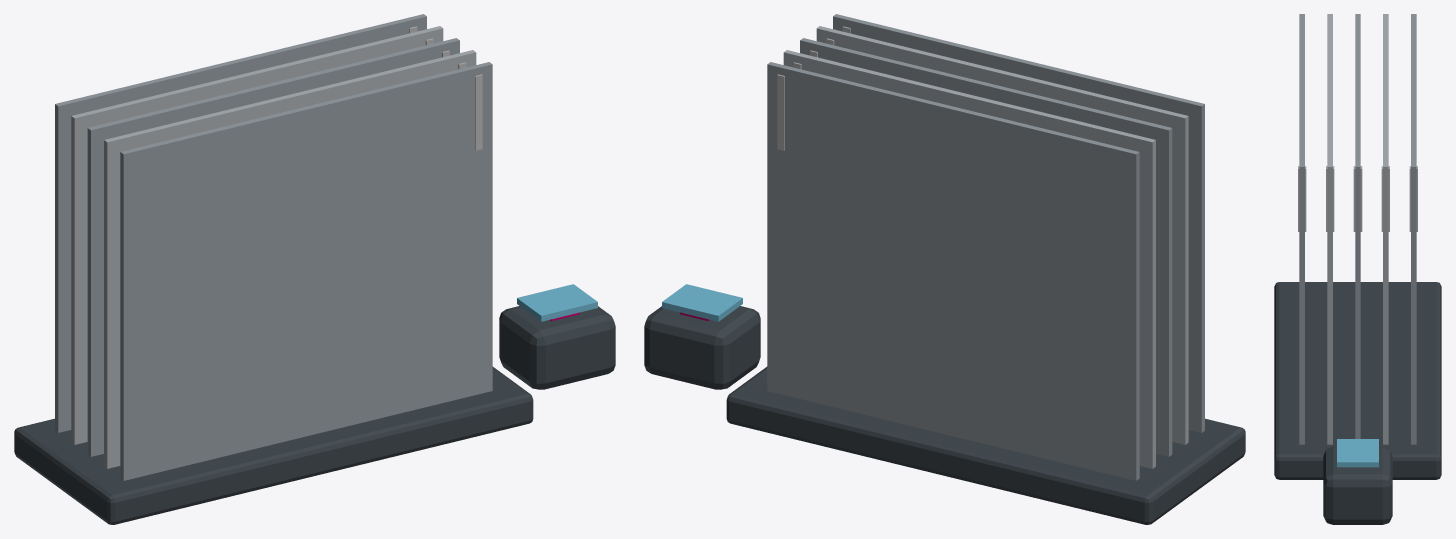
Rendered from m_platerack.glb.
3 renders of one model, left to right at view 1: azimuth 30°, elevation 25°; view 2: azimuth 150°, elevation 25°; view 3: azimuth 270°, elevation 25°, orthographic. The views are drawn at different scales.
Parts seen in each view (by area): view 1: m_platerack; view 2: m_platerack; view 3: m_platerack.
Boxes of the visible parts, bbox=[...] form: m_platerack: bbox=[14, 14, 615, 524]; m_platerack: bbox=[644, 14, 1245, 524]; m_platerack: bbox=[1274, 14, 1441, 524].
Size of the model in its own units: 0.38 by 0.24 by 0.12.
